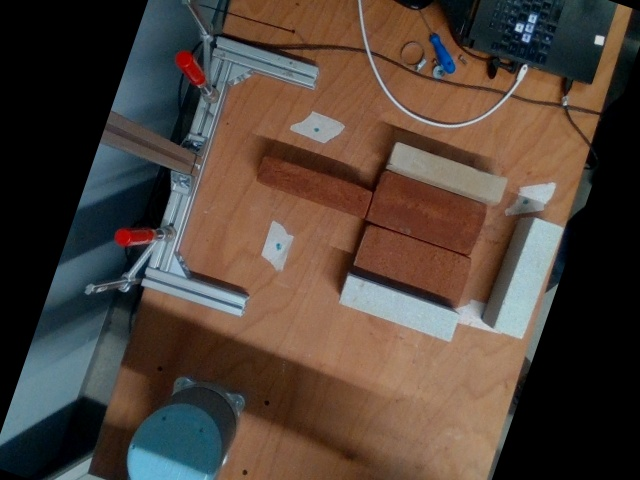brick: (353, 224, 471, 307), (370, 170, 487, 253)
brick-side: (495, 219, 561, 337), (339, 276, 459, 340), (255, 154, 372, 216), (390, 141, 506, 199)
